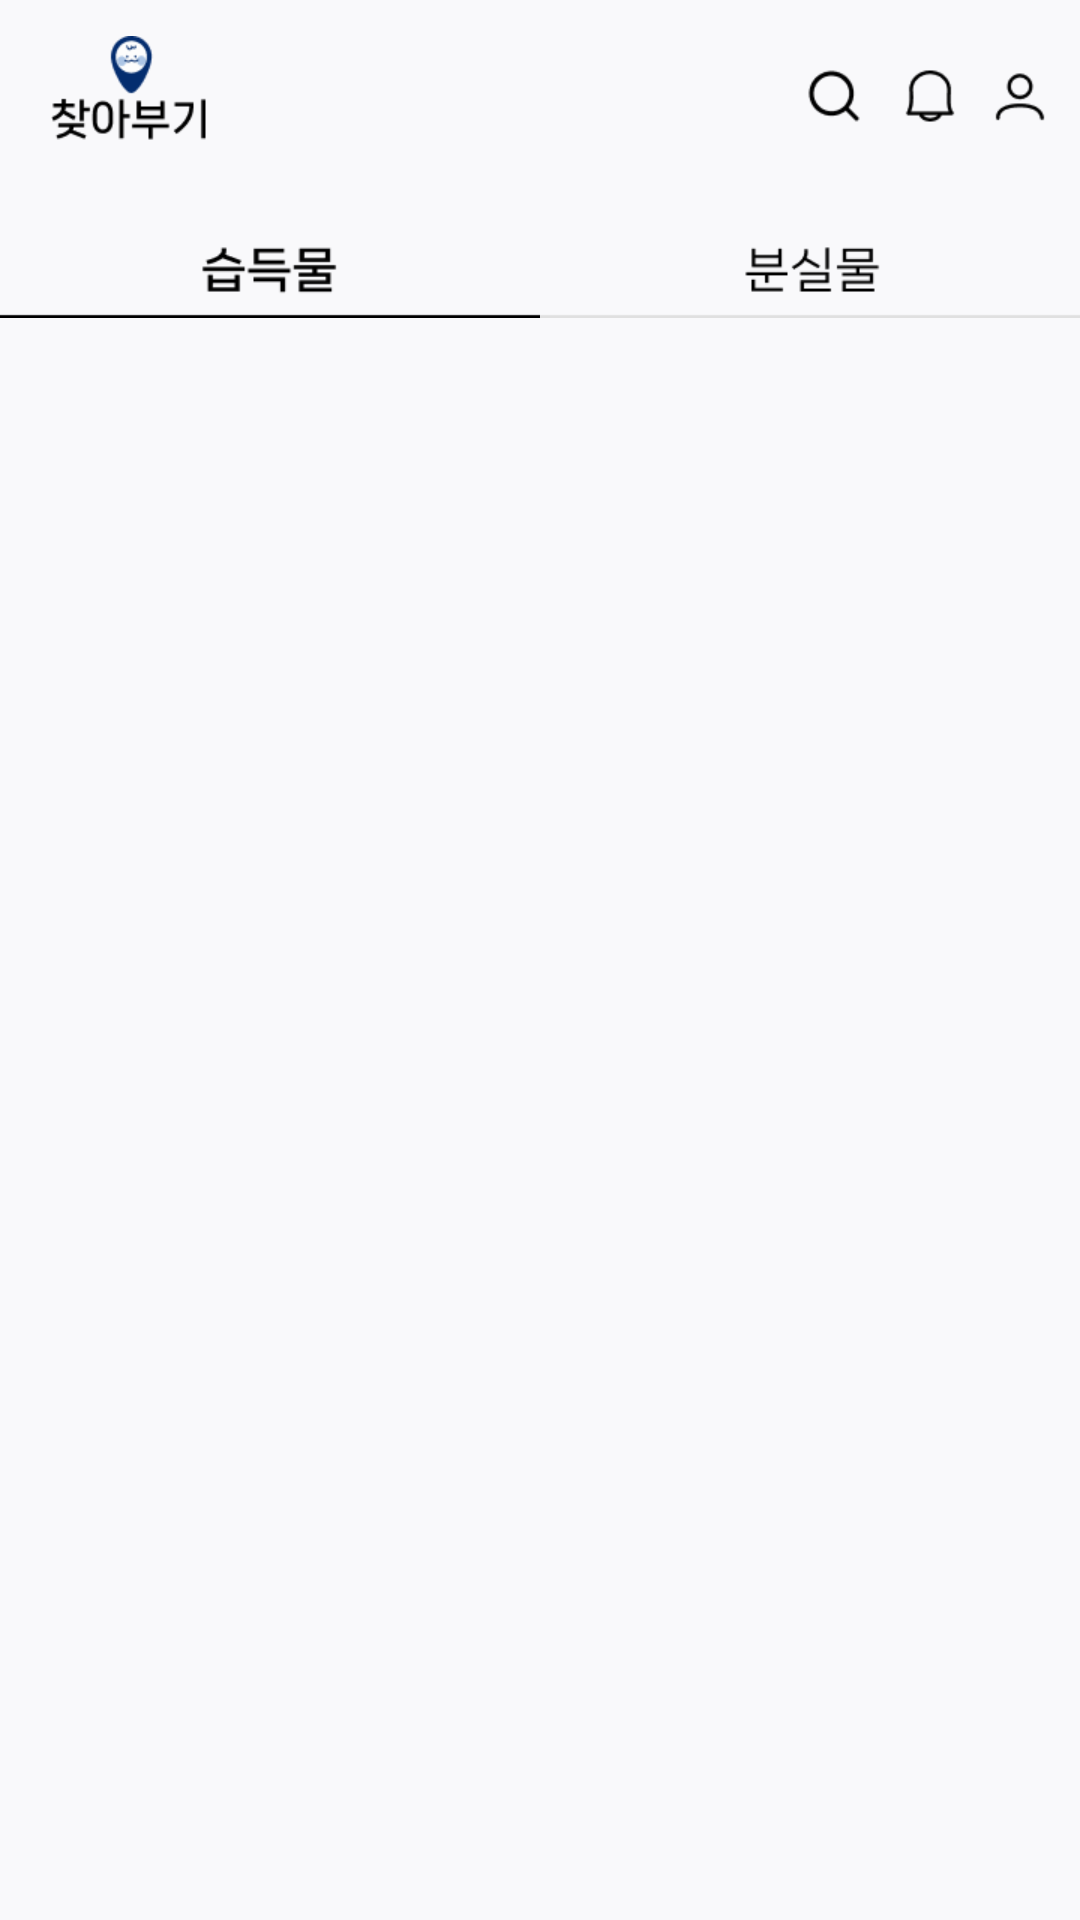

Where to tap for icons on this 1080px x 1920px app screen, as (x,y):
bell: (930,96)
mypage: (1020,97)
search: (834,96)
